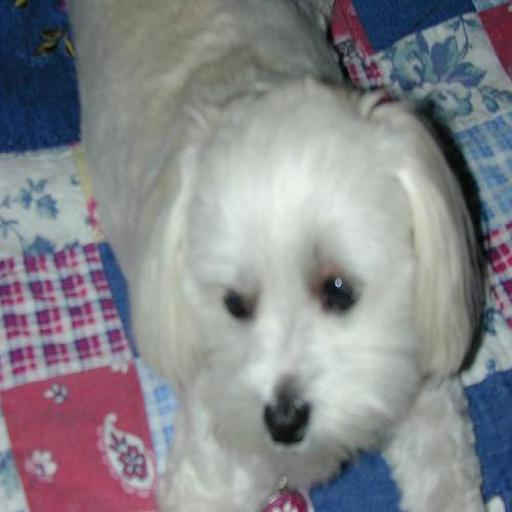dog_face: (141, 86, 468, 460)
